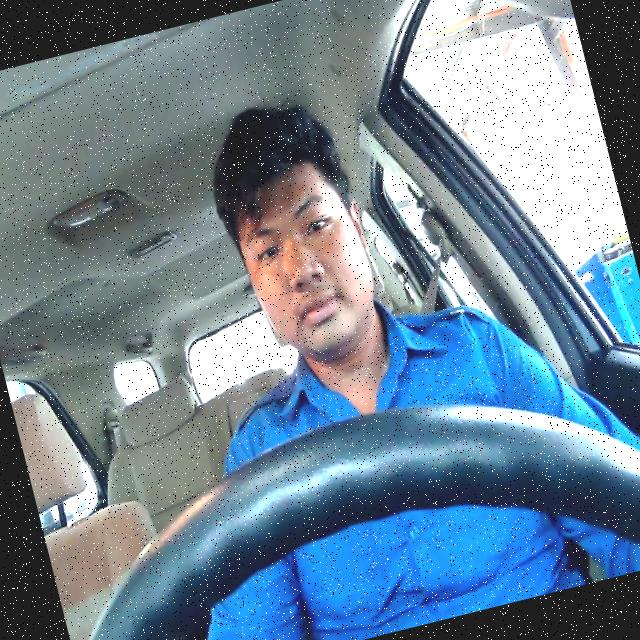focused: (223, 158, 392, 372)
